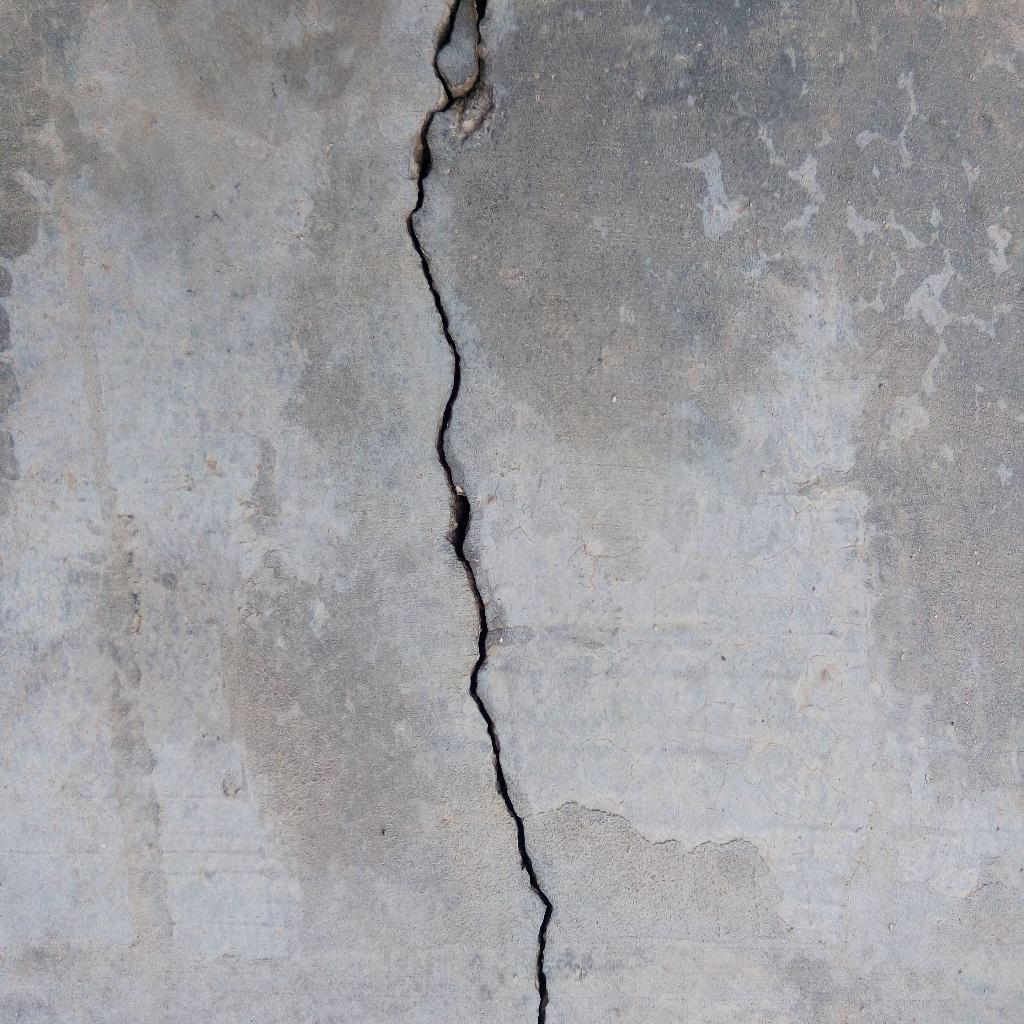Crack: (404, 1, 555, 1024)
